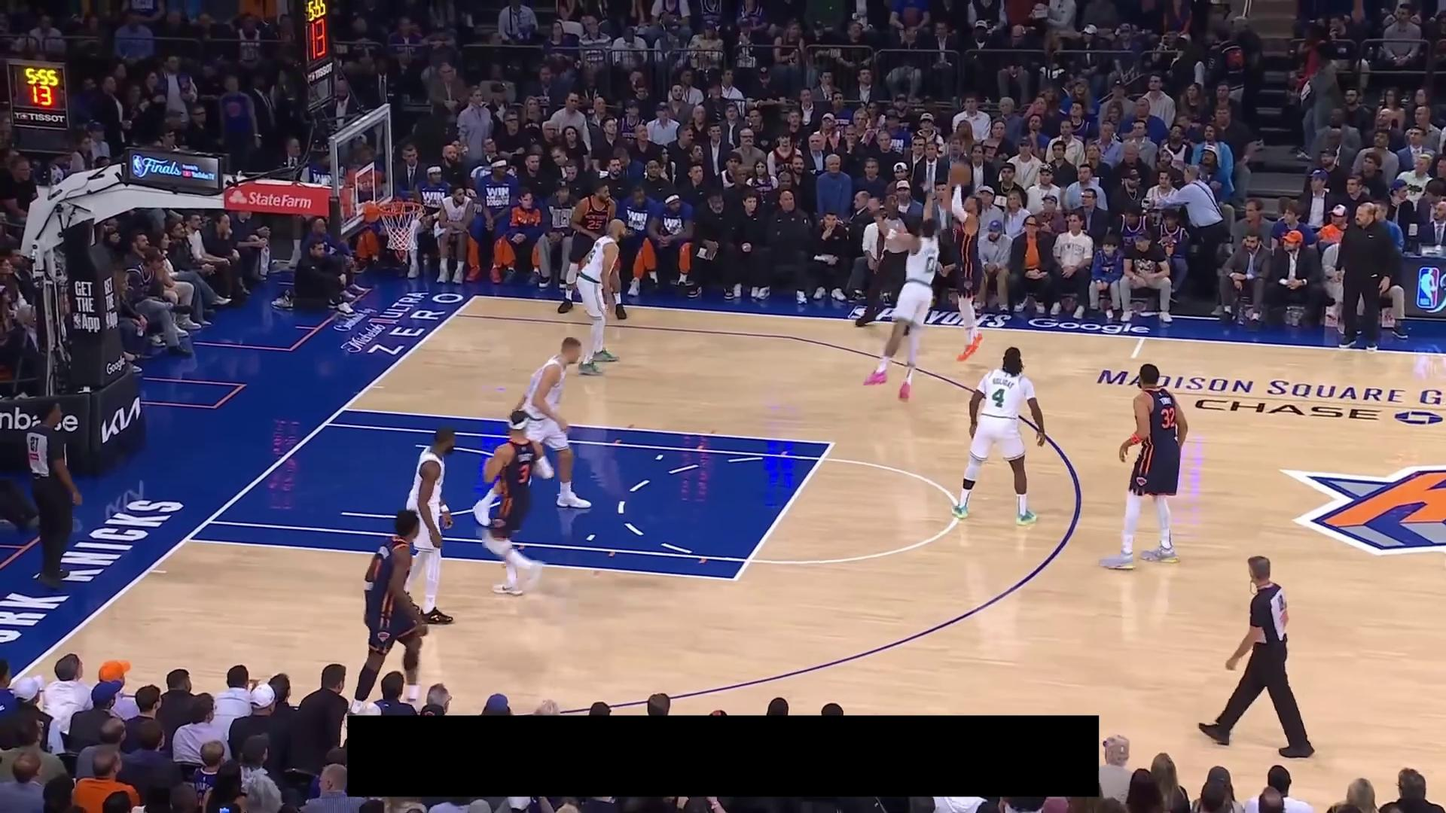ball: (948, 160, 972, 186)
number: (1161, 406, 1176, 429), (518, 462, 532, 484), (992, 388, 1006, 408), (924, 255, 936, 274), (586, 218, 602, 230)
player: (473, 337, 593, 526), (1097, 362, 1188, 572), (950, 345, 1047, 527), (349, 509, 429, 716), (481, 410, 555, 599), (403, 425, 455, 625), (557, 180, 627, 322), (574, 215, 627, 376)
player-jump-shot: (940, 159, 984, 364)
player-shot-block: (862, 191, 939, 401)
referee: (1197, 556, 1316, 760), (25, 399, 83, 590), (855, 192, 924, 331)
rim: (377, 201, 426, 216)
